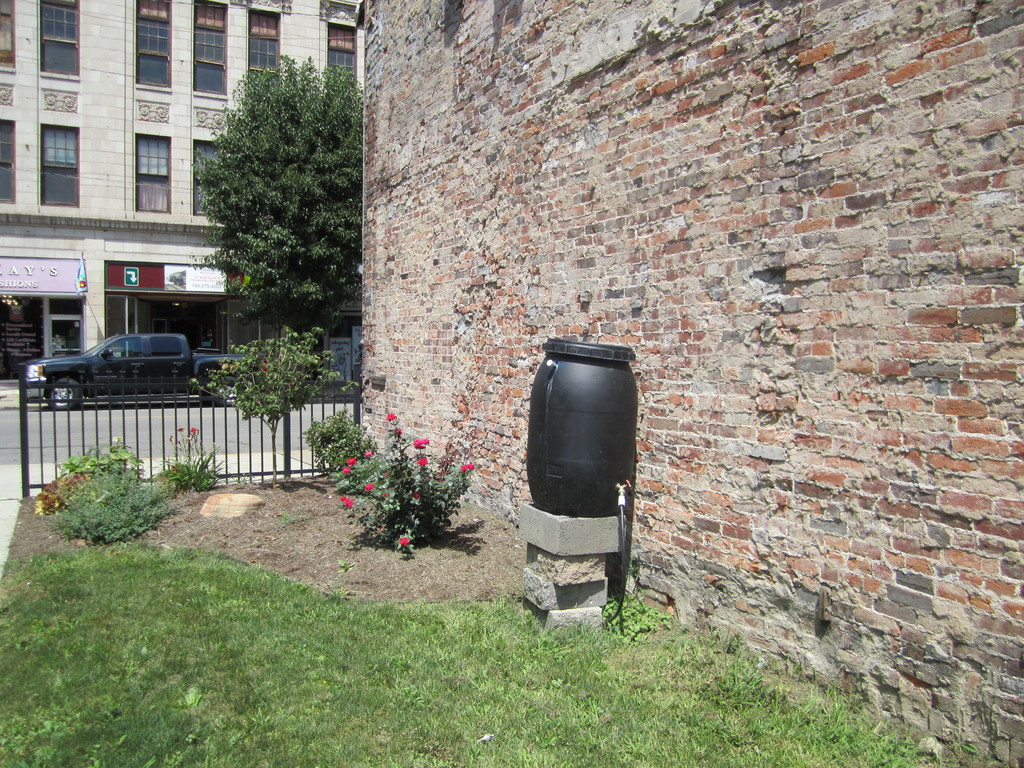Car: (28, 334, 189, 406)
